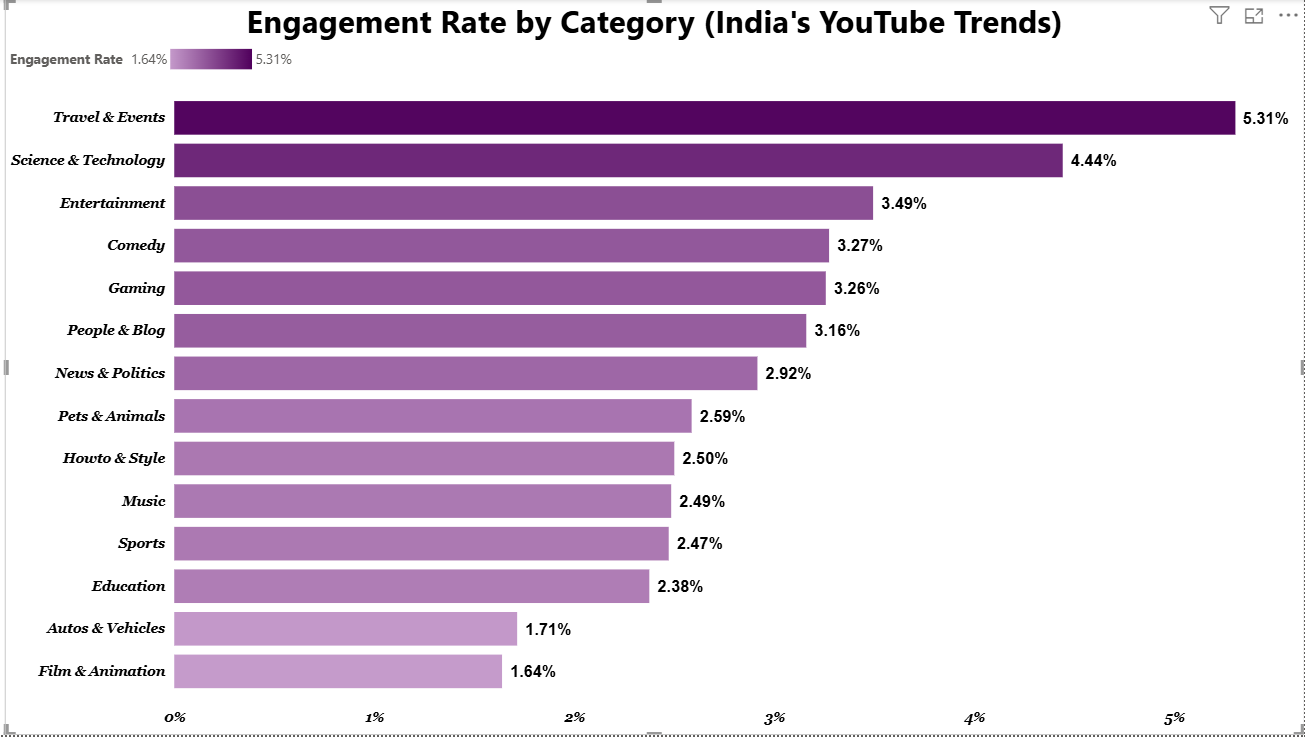

The page's visual inventory and layout, read from the dashboard file:
{"tool":"powerbi","page":{"name":"Bar chart","canvas":[1280,720],"ordinal":0},"visuals":[{"type":"clusteredBarChart","title":"Engagement Rate by Category (India''s YouTube Trends)","fields":{"Category":["Category_mapping (2).Category_Name"],"Y":["IN_Trending.Engagement Rate"]},"box":[8.6,0,1271.7,720.2],"z":0}]}

Visuals, with their boxes in screenshot pixels (x1, y1, x2, y2), scaled from the page's 1280x720 canvas onto the 1305x739 screenshot:
"Engagement Rate by Category (India''s YouTube Trends)" clusteredBarChart: l=9, t=0, r=1304, b=738
